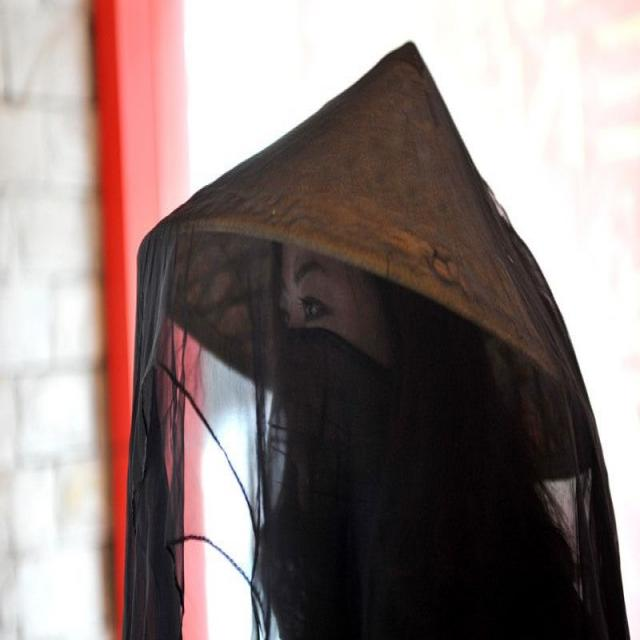mask: (264, 233, 362, 580)
